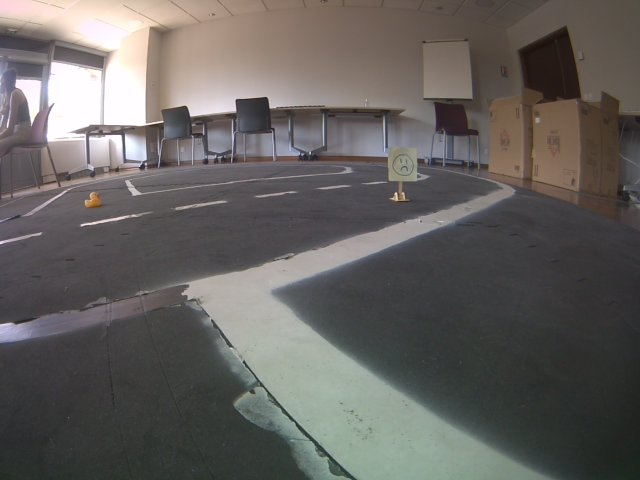Smiley: (385, 145, 420, 181)
